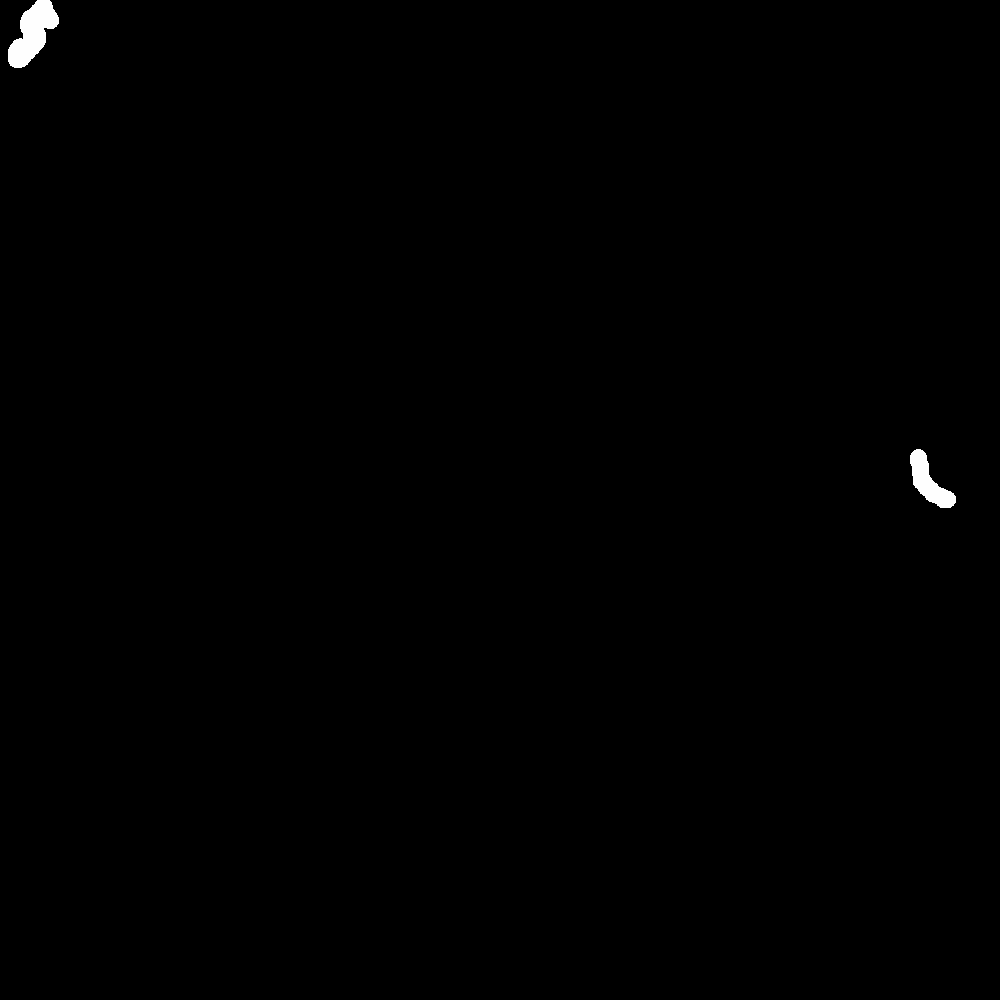illegal: (1, 1, 74, 73), (909, 426, 958, 507)
